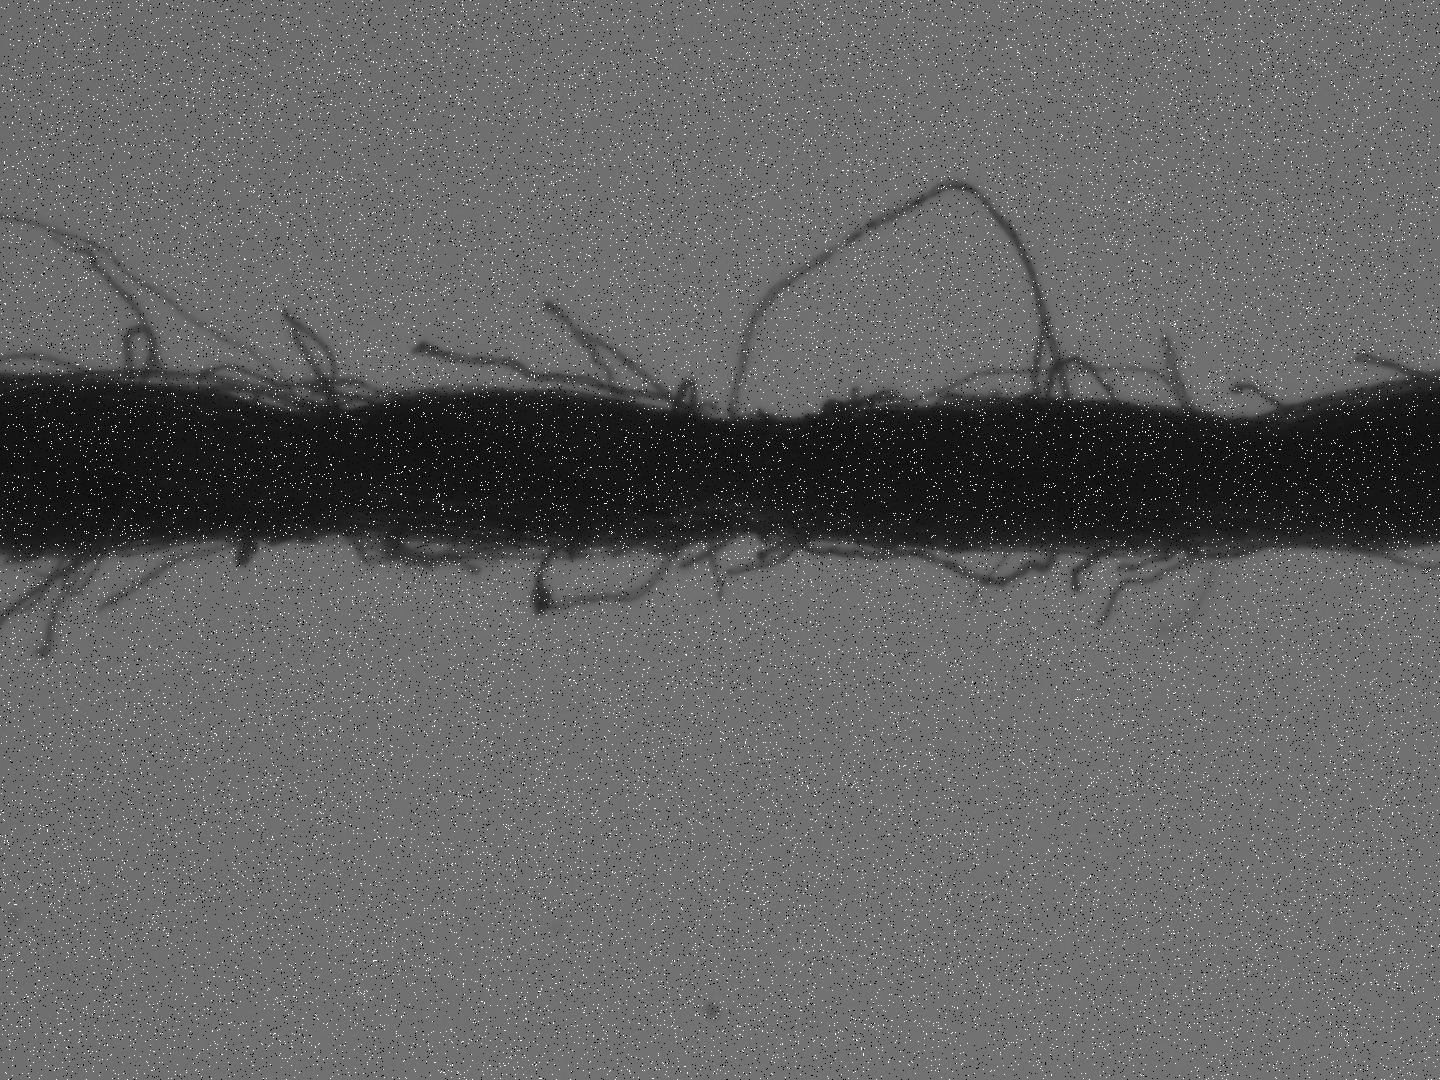loop_fiber: (729, 177, 1082, 424), (783, 532, 1067, 589), (528, 535, 691, 614), (193, 362, 409, 413), (345, 528, 492, 568), (1041, 351, 1124, 407), (51, 533, 120, 598), (1162, 537, 1286, 562), (120, 320, 158, 387), (669, 372, 706, 425)
protruding_fiber: (1230, 377, 1289, 419)
